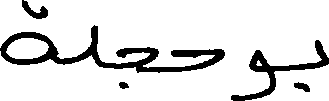ب: (293, 37, 327, 92)
ة: (0, 0, 52, 65)
ج: (114, 44, 158, 89)
ح: (170, 46, 224, 72)
ل: (85, 23, 96, 67)
و: (247, 47, 276, 98)
